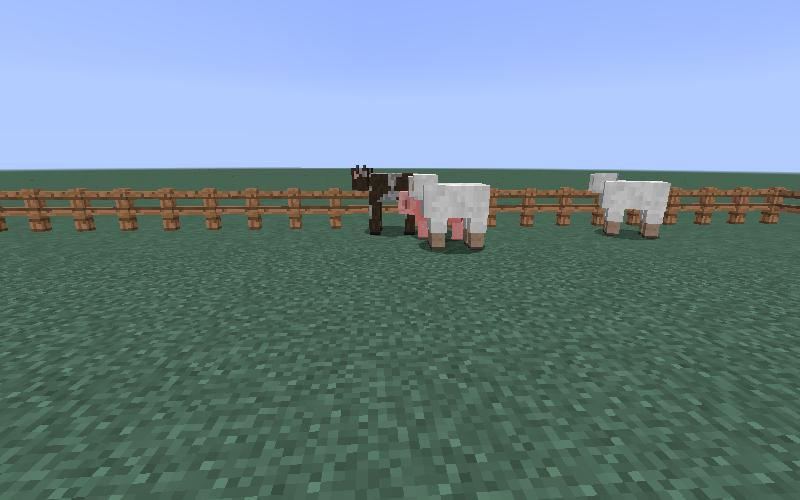cow: (351, 165, 408, 235)
sheep: (404, 172, 493, 254), (585, 169, 673, 241)
